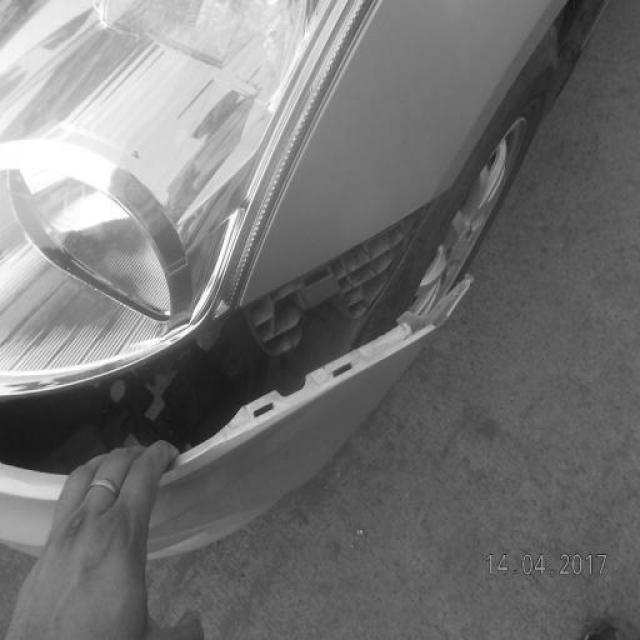tear: (2, 188, 475, 479)
